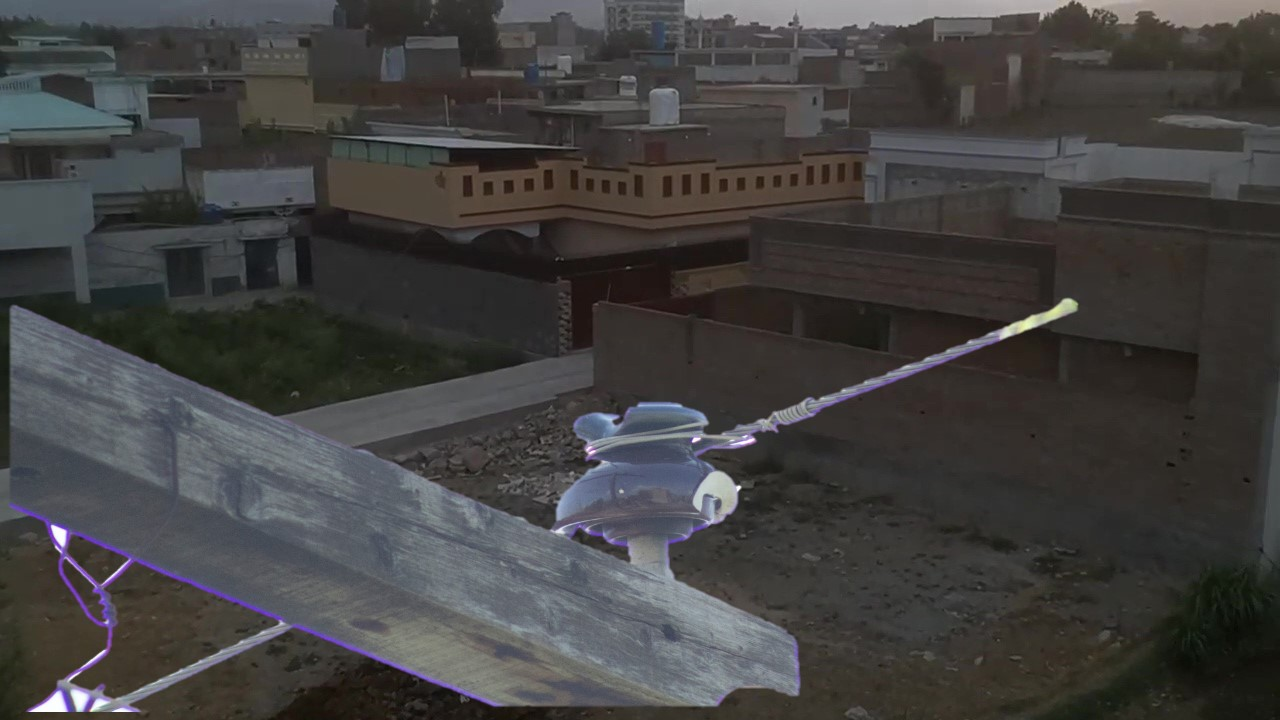defect_pin: (545, 394, 760, 558)
